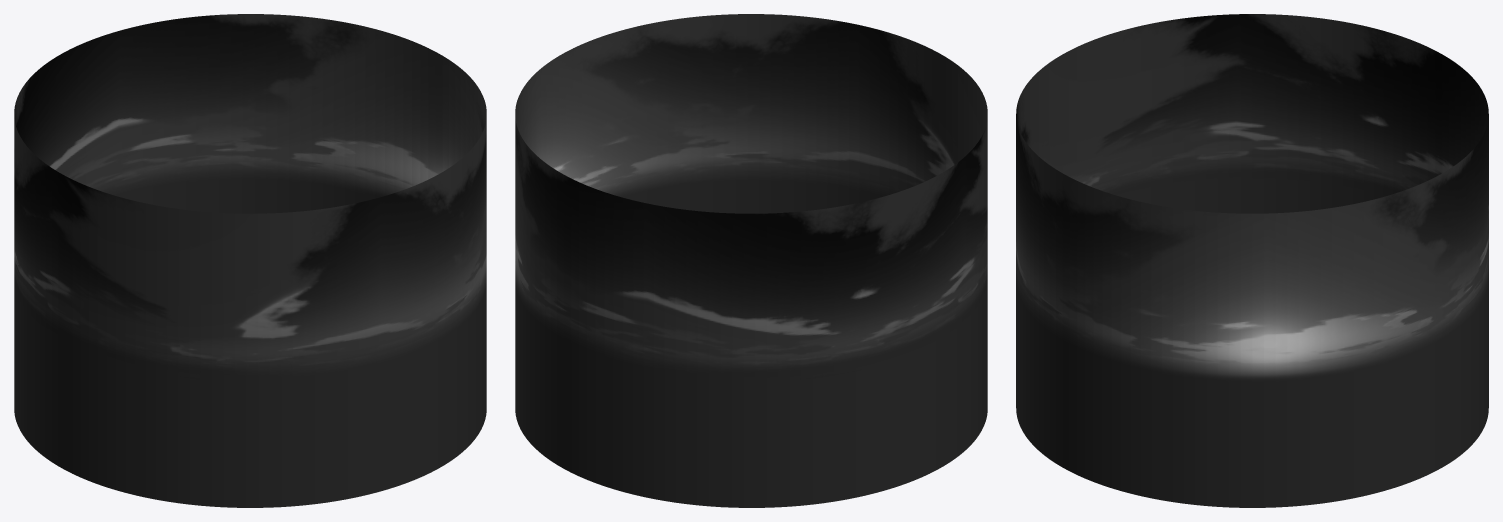
The model's file is skybox.obj.
3 views of the same model, side by side, from view 1: azimuth 30°, elevation 25°; view 2: azimuth 150°, elevation 25°; view 3: azimuth 270°, elevation 25° (orthographic).
Visible parts, largest first — view 1: Cylinder.001; view 2: Cylinder.001; view 3: Cylinder.001.
Boxes of the visible parts, x1,y1,x2,y2 form: Cylinder.001: [14, 14, 486, 507]; Cylinder.001: [515, 14, 987, 507]; Cylinder.001: [1016, 14, 1488, 507].
Size of the model in its own units: 97.46 by 66.94 by 97.46.
2 materials, 2 textured.
